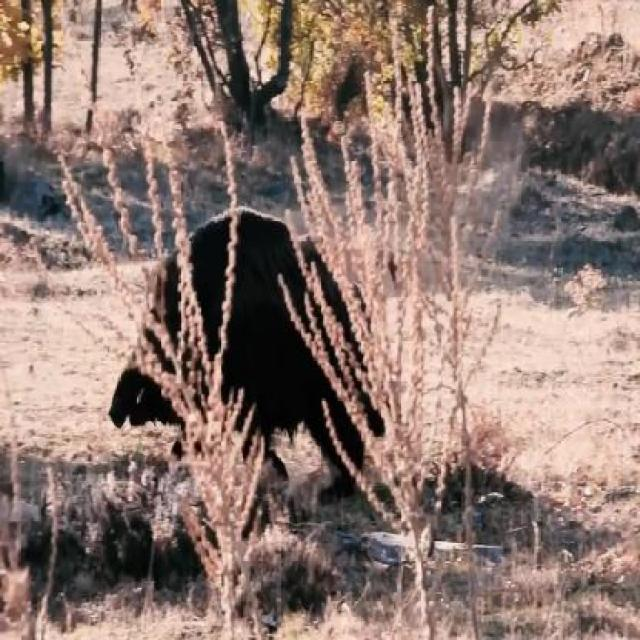pig: (115, 162, 430, 608)
